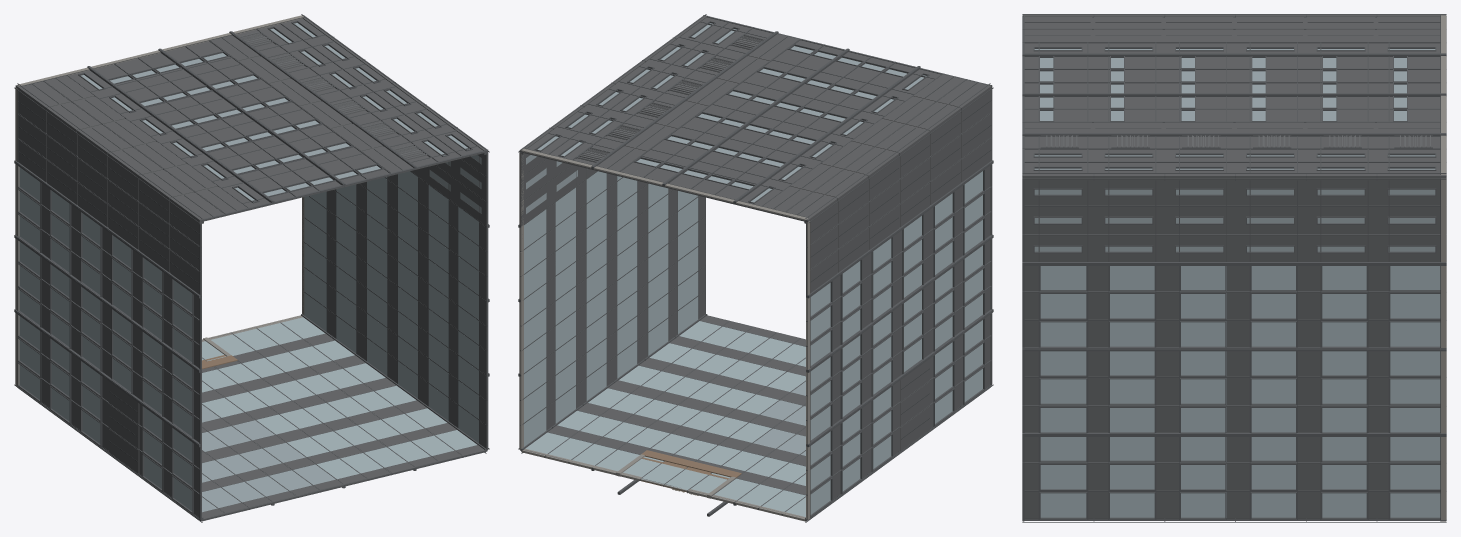
Rendered from equity-uprise-facade-core-v2.glb.
The picture shows the model from 3 angles, left to right: view 1: azimuth 30°, elevation 25°; view 2: azimuth 150°, elevation 25°; view 3: azimuth 270°, elevation 25°; orthographic projection. The views are drawn at different scales.
Parts seen in each view (by area): view 1: FAC-BASE-PLINTH-WEST-01, FAC-CORNER-FINISH-NW-01::pier, FAC-BASE-PLINTH-NORTH-01, FAC-CROWN-CAP-01::east, FAC-CORNER-FINISH-NE-01::pier, FAC-CROWN-CAP-01::south, FAC-CROWN-CAP-01::west, FAC-PRIMARY-FIN-NORTH-18, FAC-PRIMARY-FIN-NORTH-36, FAC-CROWN-CAP-01::north, FAC-WEST-F2-M11::opaque-finish-face, FAC-WEST-F5-M11::opaque-finish-face (+48 smaller); view 2: FAC-BASE-PLINTH-EAST-01, FAC-BASE-PLINTH-WEST-01, FAC-CORNER-FINISH-NW-01::pier, FAC-BASE-PLINTH-NORTH-01, FAC-CORNER-FINISH-NE-01::pier, FAC-PRIMARY-FIN-NORTH-18, FAC-PRIMARY-FIN-NORTH-36, FAC-CROWN-CAP-01::west, FAC-WEST-F2-M11::opaque-finish-face, FAC-WEST-F5-M11::opaque-finish-face, FAC-WEST-F3-M11::opaque-finish-face, FAC-WEST-F6-M11::opaque-finish-face (+51 smaller); view 3: FAC-CORNER-FINISH-NE-01::pier, FAC-BASE-PLINTH-EAST-01, FAC-PRIMARY-FIN-EAST-36, FAC-PRIMARY-FIN-NORTH-18, FAC-PRIMARY-FIN-NORTH-54, FAC-PRIMARY-FIN-EAST-18, FAC-EAST-F1-M01::vision, FAC-EAST-F1-M05::vision, FAC-EAST-F1-M07::vision, FAC-PRIMARY-FIN-FINISH-01::east-18, FAC-PRIMARY-FIN-FINISH-01::east-54, FAC-PRIMARY-FIN-EAST-54 (+132 smaller).
Boxes of the visible parts, x1,y1,x2,y2 form: FAC-BASE-PLINTH-WEST-01: [15, 87, 19, 386]; FAC-CORNER-FINISH-NW-01::pier: [15, 85, 203, 223]; FAC-BASE-PLINTH-NORTH-01: [17, 15, 303, 86]; FAC-CROWN-CAP-01::east: [485, 152, 488, 449]; FAC-CORNER-FINISH-NE-01::pier: [302, 15, 488, 154]; FAC-CROWN-CAP-01::south: [202, 450, 486, 520]; FAC-CROWN-CAP-01::west: [199, 222, 201, 519]; FAC-PRIMARY-FIN-NORTH-18: [87, 66, 274, 204]; FAC-PRIMARY-FIN-NORTH-36: [158, 49, 345, 185]; FAC-CROWN-CAP-01::north: [202, 150, 486, 220]; FAC-WEST-F2-M11::opaque-finish-face: [47, 135, 77, 180]; FAC-WEST-F5-M11::opaque-finish-face: [139, 203, 169, 248]; FAC-BASE-PLINTH-EAST-01: [519, 152, 523, 449]; FAC-BASE-PLINTH-WEST-01: [807, 221, 810, 519]; FAC-CORNER-FINISH-NW-01::pier: [804, 85, 991, 223]; FAC-BASE-PLINTH-NORTH-01: [521, 148, 807, 220]; FAC-CORNER-FINISH-NE-01::pier: [519, 15, 706, 154]; FAC-PRIMARY-FIN-NORTH-18: [733, 66, 920, 204]; FAC-PRIMARY-FIN-NORTH-36: [662, 49, 849, 186]; FAC-CROWN-CAP-01::west: [990, 89, 992, 384]; FAC-WEST-F2-M11::opaque-finish-face: [838, 203, 868, 248]; FAC-WEST-F5-M11::opaque-finish-face: [930, 135, 960, 180]; FAC-WEST-F3-M11::opaque-finish-face: [869, 181, 899, 225]; FAC-WEST-F6-M11::opaque-finish-face: [961, 113, 991, 157]; FAC-CORNER-FINISH-NE-01::pier: [1022, 174, 1446, 180]; FAC-BASE-PLINTH-EAST-01: [1441, 178, 1446, 519]; FAC-PRIMARY-FIN-EAST-36: [1022, 347, 1446, 351]; FAC-PRIMARY-FIN-NORTH-18: [1022, 53, 1446, 56]; FAC-PRIMARY-FIN-NORTH-54: [1022, 133, 1446, 136]; FAC-PRIMARY-FIN-EAST-18: [1022, 432, 1446, 436]; FAC-EAST-F1-M01::vision: [1390, 493, 1440, 517]; FAC-EAST-F1-M05::vision: [1390, 379, 1440, 403]; FAC-EAST-F1-M07::vision: [1390, 322, 1440, 346]; FAC-PRIMARY-FIN-FINISH-01::east-18: [1022, 434, 1446, 436]; FAC-PRIMARY-FIN-FINISH-01::east-54: [1022, 263, 1446, 265]; FAC-PRIMARY-FIN-EAST-54: [1022, 262, 1446, 265].
Bounding box in the file's own units: 22.43 × 23.95 × 24.69.
